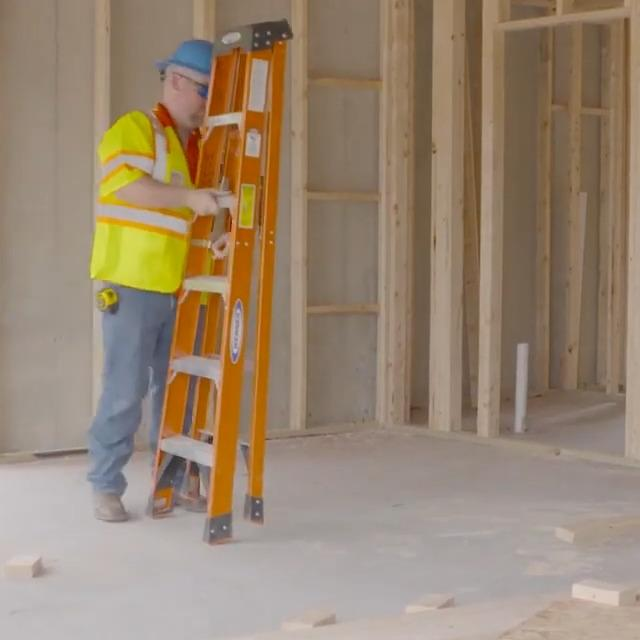Hardhat: (161, 39, 215, 75)
NO-Mask: (178, 96, 205, 129)
Person: (95, 39, 230, 521)
Safety Vest: (89, 107, 194, 293)
